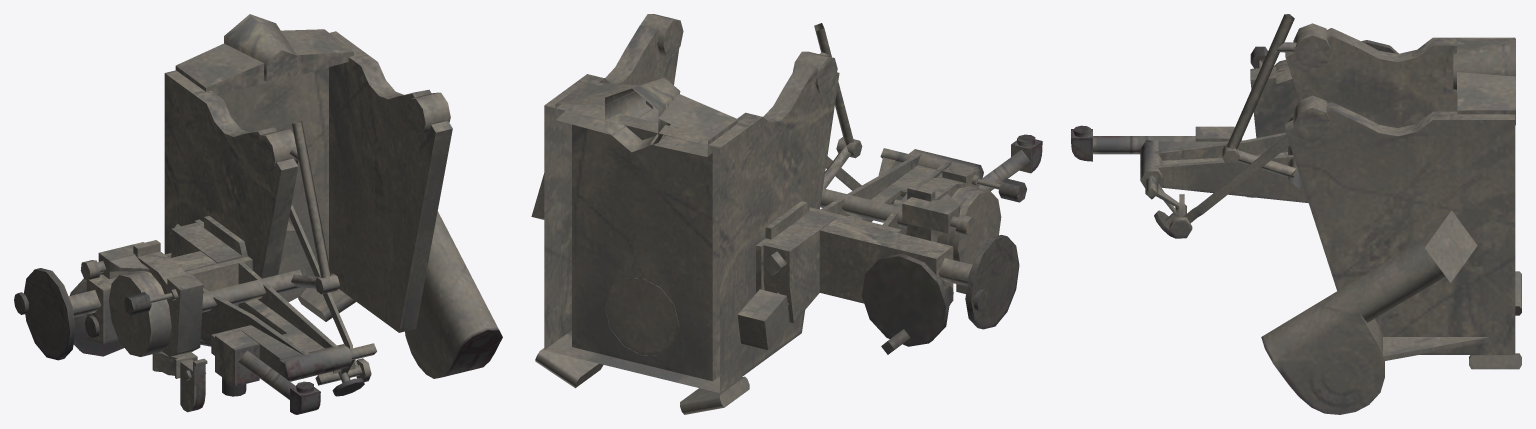
File: Turret_01.glb
The picture shows the model from 3 angles, left to right: view 1: azimuth 30°, elevation 25°; view 2: azimuth 150°, elevation 25°; view 3: azimuth 270°, elevation 25°; orthographic projection. The views are drawn at different scales.
Visible parts, largest first — view 1: set_0_group_0; view 2: set_0_group_0; view 3: set_0_group_0.
Part boxes in pixels (box(x1,y1,x2,y2)): set_0_group_0: box(14, 14, 502, 414); set_0_group_0: box(531, 14, 1042, 414); set_0_group_0: box(1071, 14, 1521, 414).
Size of the model in its own units: 1.08 by 0.7816 by 1.03.
Materials: 1 (1 with a texture image).
